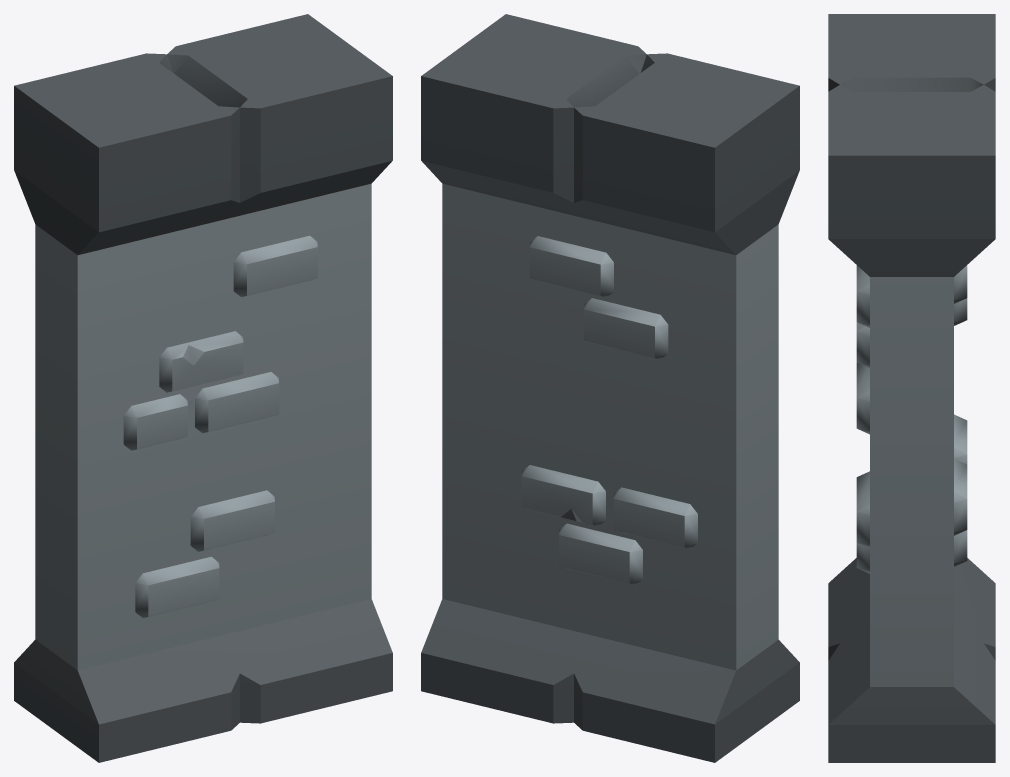
File: wall_half.fbx
3 renders of one model, left to right at view 1: azimuth 30°, elevation 25°; view 2: azimuth 150°, elevation 25°; view 3: azimuth 270°, elevation 25°, orthographic.
Visible parts, largest first — view 1: wall_half; view 2: wall_half; view 3: wall_half.
Part boxes in pixels (x1,y1,x2,y2): wall_half: (14, 14, 392, 762); wall_half: (421, 14, 799, 762); wall_half: (828, 14, 995, 762).
Size of the model in its own units: 200 by 400 by 100.
1 material, 1 textured.
